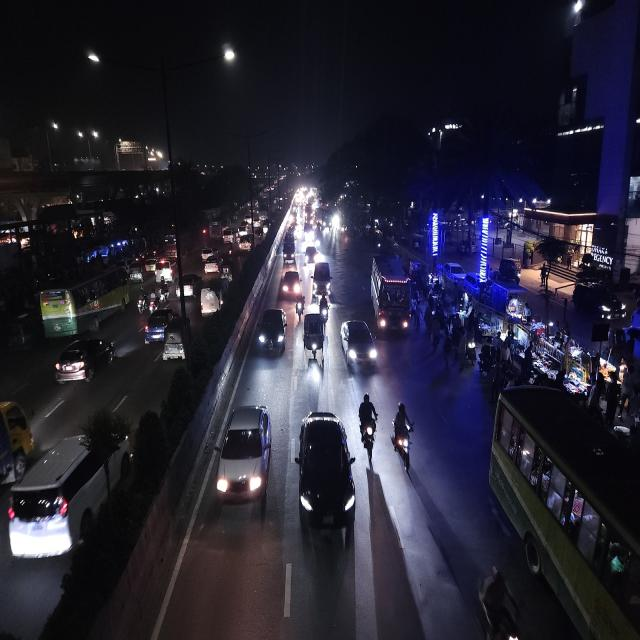bus: (488, 382, 640, 640), (38, 266, 130, 334), (367, 251, 414, 337)
car: (4, 425, 130, 569), (294, 406, 356, 540), (215, 399, 274, 514), (52, 333, 119, 390), (338, 316, 378, 376), (256, 304, 288, 359), (142, 307, 176, 343), (311, 259, 333, 297), (279, 266, 302, 302), (198, 286, 219, 322), (176, 271, 200, 300), (157, 257, 176, 279), (201, 248, 218, 270), (238, 233, 254, 254), (204, 254, 220, 275), (304, 243, 318, 266), (198, 245, 215, 262), (143, 256, 157, 275), (222, 227, 234, 245)
cng: (162, 314, 192, 365), (303, 309, 325, 368), (220, 259, 232, 282)
motorcycle: (474, 562, 526, 640), (390, 398, 416, 477), (357, 390, 379, 461), (158, 276, 170, 304), (136, 288, 148, 314), (294, 290, 305, 318), (320, 292, 330, 321), (148, 289, 160, 312)
pickup_van: (282, 241, 297, 264)
